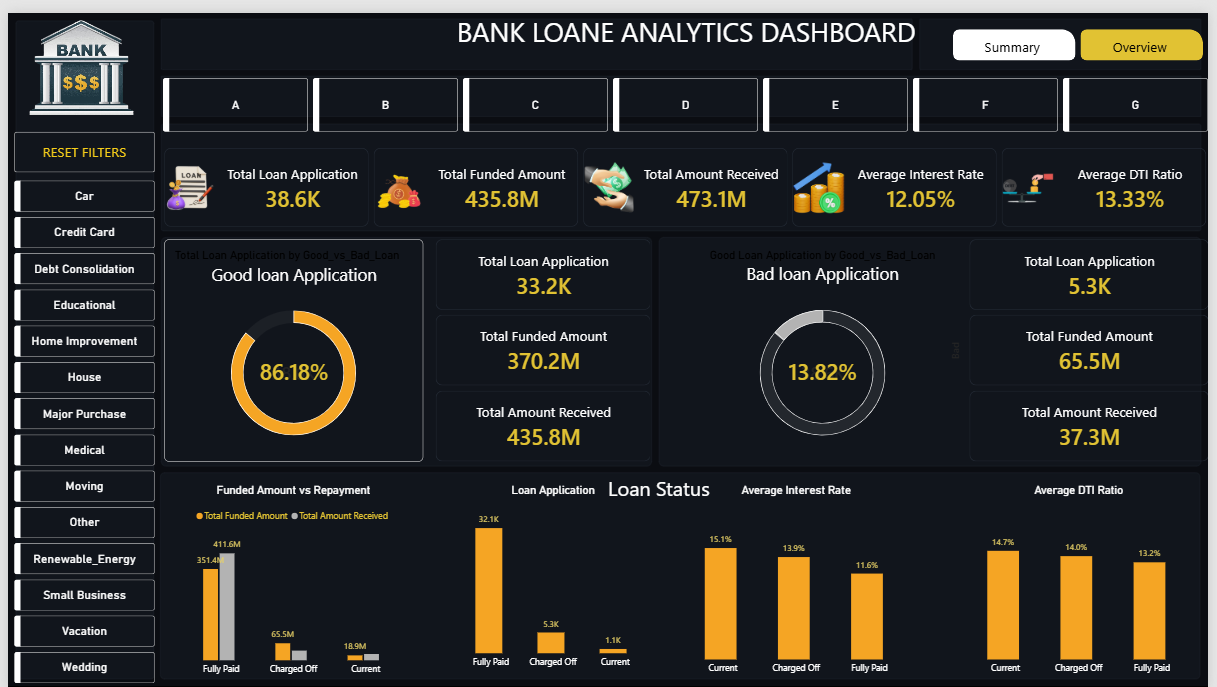

The dashboard page shown, as its layout file describes it:
{"tool":"powerbi","page":{"name":"Summary ","canvas":[1920,1080],"ordinal":0},"visuals":[{"type":"cardVisual","fields":{"Data":["financial_loan.Total Loan Application","financial_loan.Total Funded Amount","financial_loan.Total Amount Received","financial_loan.Average Interest Rate","financial_loan.Average DTI Rate"]},"box":[250,216,1670,126],"z":0},{"type":"donutChart","fields":{"Category":["financial_loan.Good_vs_Bad_Loan"],"Y":["financial_loan.Total Loan Application"]},"box":[250,362,414,356],"z":1000},{"type":"donutChart","title":"Good Loan Application by Good_vs_Bad_Loan","fields":{"Category":["financial_loan.Good_vs_Bad_Loan"],"Y":["financial_loan.Total Loan Application"]},"box":[1052,362,502.5,355],"z":2000},{"type":"cardVisual","fields":{"Data":["financial_loan.Good Loan %"]},"box":[324,502,267.5,140],"z":3000},{"type":"cardVisual","fields":{"Data":["financial_loan.Bad Loan %"]},"box":[1170,502,267.5,140],"z":4000},{"type":"cardVisual","fields":{"Data":["financial_loan.Total Loan Application","financial_loan.Total Funded Amount","financial_loan.Total Amount Received"],"Rows":["financial_loan.Good_vs_Bad_Loan"]},"box":[650,362,377.5,355],"z":5000},{"type":"cardVisual","fields":{"Data":["financial_loan.Total Loan Application","financial_loan.Total Funded Amount","financial_loan.Total Amount Received"],"Rows":["financial_loan.Good_vs_Bad_Loan"]},"box":[1504,362,416,356],"z":6000},{"type":"clusteredColumnChart","title":"Funded Amount vs Repayment ","fields":{"Category":["financial_loan.LOAN_STATUS"],"Y":["financial_loan.Total Funded Amount","financial_loan.Total Amount Received"]},"box":[250,738.3,413.3,341.7],"z":7000},{"type":"clusteredColumnChart","title":"Loan Application","fields":{"Category":["financial_loan.LOAN_STATUS"],"Y":["financial_loan.Total Loan Application"]},"box":[691.7,738.3,360,330],"z":8000},{"type":"textbox","box":[960,738,312.7,149.2],"z":9000},{"type":"clusteredColumnChart","title":"Average Interest Rate","fields":{"Category":["financial_loan.LOAN_STATUS"],"Y":["financial_loan.Average Interest Rate"]},"box":[1051.7,738.3,418.3,340],"z":10000},{"type":"clusteredColumnChart","title":"Average DTI Ratio","fields":{"Category":["financial_loan.LOAN_STATUS"],"Y":["financial_loan.Average DTI Ratio"]},"box":[1503.3,738.3,418.3,340],"z":11000},{"type":"image","box":[0,0,234.9,173],"z":12000},{"type":"advancedSlicerVisual","fields":{"Values":["financial_loan.PURPOSE"]},"box":[10,268,225,811.7],"z":13000},{"type":"advancedSlicerVisual","fields":{"Values":["financial_loan.GRADE"]},"box":[248,104,1672,86],"z":14000},{"type":"actionButton","box":[10,190,225,65],"z":15000},{"type":"textbox","box":[250,0,1670,104],"z":16000},{"type":"pageNavigator","box":[1512,26,400,50],"z":17000}]}

Visuals, with their boxes in screenshot pixels (x1, y1, x2, y2), scaled from the page's 1920x1080 canvas onto the 1217x687 screenshot:
cardVisual - financial_loan.Total Loan Application x financial_loan.Total Funded Amount: l=158, t=137, r=1216, b=218
donutChart - financial_loan.Good_vs_Bad_Loan x financial_loan.Total Loan Application: l=158, t=230, r=421, b=457
"Good Loan Application by Good_vs_Bad_Loan" donutChart: l=667, t=230, r=985, b=456
cardVisual - financial_loan.Good Loan %: l=205, t=319, r=375, b=408
cardVisual - financial_loan.Bad Loan %: l=742, t=319, r=911, b=408
cardVisual - financial_loan.Total Loan Application x financial_loan.Total Funded Amount: l=412, t=230, r=651, b=456
cardVisual - financial_loan.Total Loan Application x financial_loan.Total Funded Amount: l=953, t=230, r=1216, b=457
"Funded Amount vs Repayment " clusteredColumnChart: l=158, t=470, r=420, b=686
"Loan Application" clusteredColumnChart: l=438, t=470, r=667, b=680
textbox: l=608, t=469, r=807, b=564
"Average Interest Rate" clusteredColumnChart: l=667, t=470, r=932, b=686
"Average DTI Ratio" clusteredColumnChart: l=953, t=470, r=1216, b=686
image: l=0, t=0, r=149, b=110
advancedSlicerVisual - financial_loan.PURPOSE: l=6, t=170, r=149, b=686
advancedSlicerVisual - financial_loan.GRADE: l=157, t=66, r=1216, b=121
actionButton: l=6, t=121, r=149, b=162
textbox: l=158, t=0, r=1216, b=66
pageNavigator: l=958, t=17, r=1212, b=48
